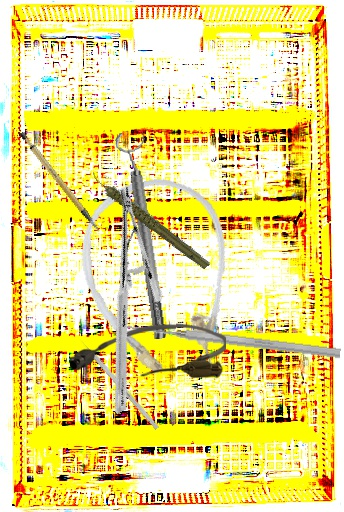Cannula: (67, 167, 252, 397), (69, 322, 227, 381)
Fixation Ring: (113, 129, 176, 342)
Handpiece: (89, 148, 212, 290)
Hook Surgical: (77, 336, 160, 431)
Needle Holder: (24, 185, 222, 415)
Pusher: (125, 319, 342, 361)
Scalpel Handle: (17, 122, 102, 244)
